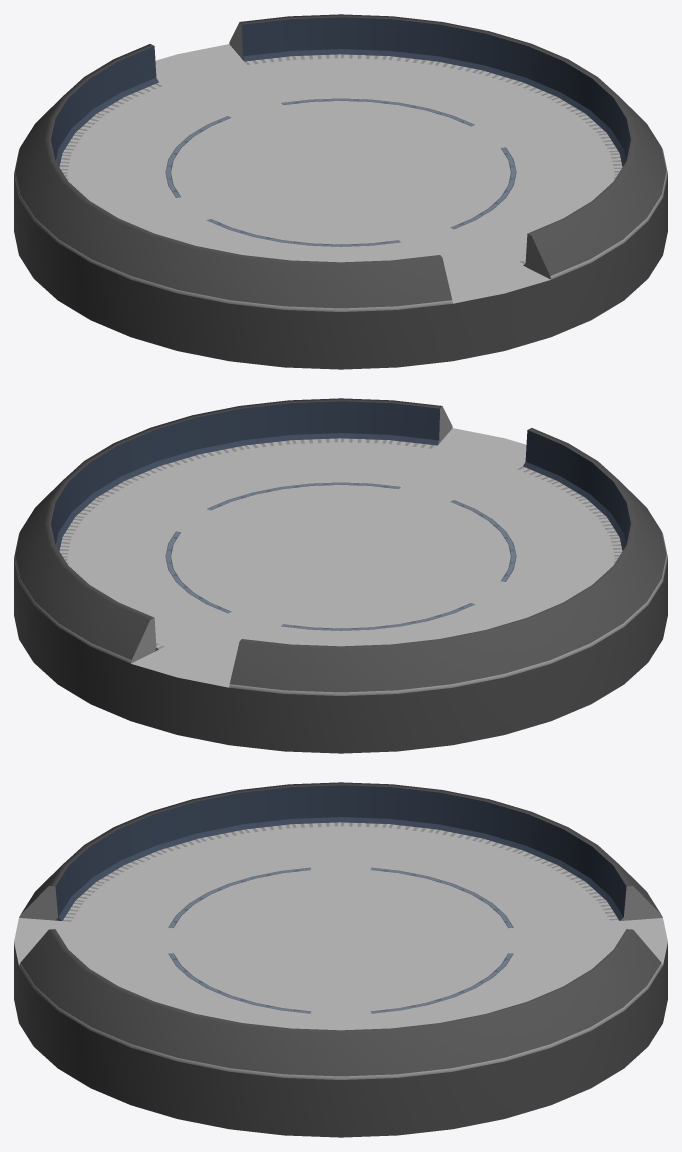
File: ArtilleryPosition.fbx
3 renders of one model, top to bottom at view 1: azimuth 30°, elevation 25°; view 2: azimuth 150°, elevation 25°; view 3: azimuth 270°, elevation 25°, orthographic.
Parts seen in each view (by area): view 1: polySurface2; view 2: polySurface2; view 3: polySurface2.
Part boxes in pixels (x1=…): polySurface2: x1=14, y1=14, x2=667, y2=369; polySurface2: x1=14, y1=398, x2=667, y2=753; polySurface2: x1=14, y1=782, x2=667, y2=1137.
Bounding box in the file's own units: 10 × 1.55 × 10.
